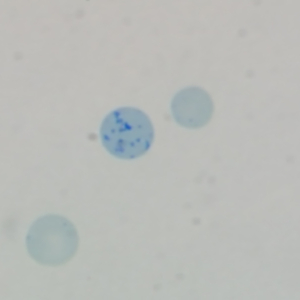aggregate reticulocyte: (97, 105, 157, 162)
punctate reticulocyte: (24, 214, 79, 268), (169, 85, 216, 130)
